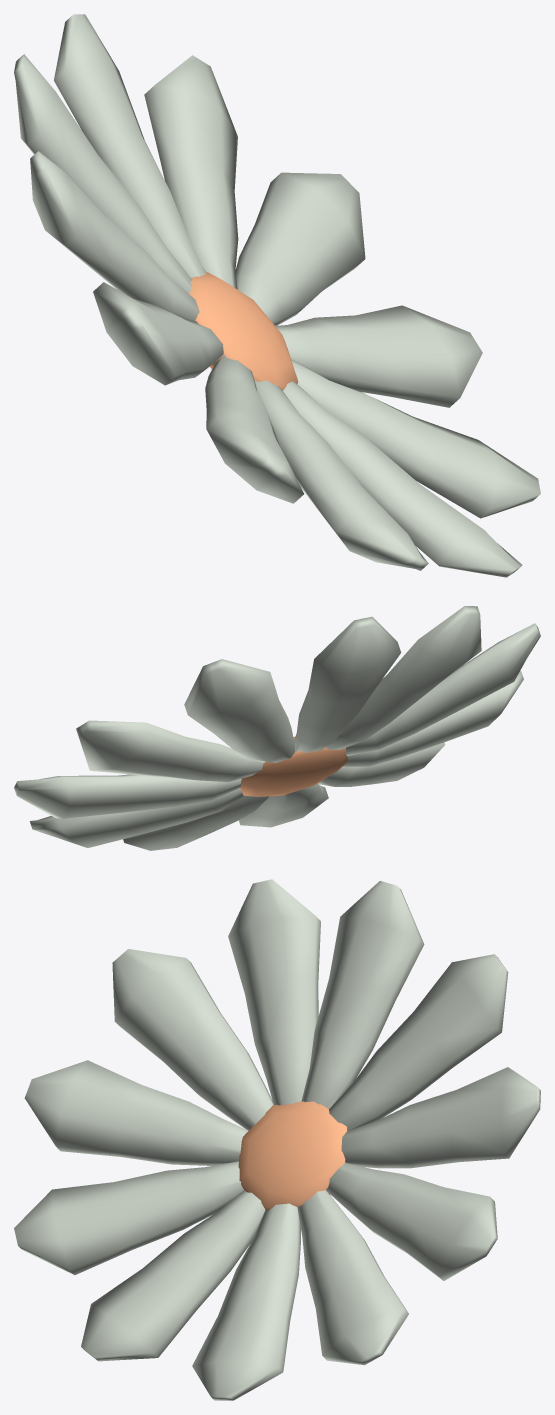
3 views of the same model, one above another, from view 1: azimuth 30°, elevation 25°; view 2: azimuth 150°, elevation 25°; view 3: azimuth 270°, elevation 25° (orthographic). The views are drawn at different scales.
Visible parts, largest first — view 1: 平面.004, 平面.003, 平面.002, 平面.005, 平面.001, 平面.006, 平面.007, 平面.010, 平面, 平面.008, 平面.009, 球体; view 2: 平面, 平面.002, 平面.001, 平面.010, 平面.003, 平面.009, 平面.004, 平面.008, 球体, 平面.005, 平面.007, 平面.006; view 3: 平面.008, 平面.009, 平面.007, 平面, 平面.010, 平面.006, 平面.001, 平面.005, 平面.002, 平面.004, 平面.003, 球体.
Boxes of the visible parts, x1,y1,x2,y2 form: 平面.004: (275, 305, 482, 407); 平面.003: (235, 172, 365, 325); 平面.002: (144, 55, 238, 289); 平面.005: (291, 359, 540, 518); 平面.001: (54, 14, 205, 277); 平面.006: (283, 381, 522, 577); 平面.007: (254, 380, 428, 570); 平面.010: (30, 151, 199, 320); 平面: (14, 54, 192, 293); 平面.008: (205, 355, 303, 503); 平面.009: (93, 282, 223, 385); 球体: (189, 272, 298, 390); 平面: (294, 616, 401, 752); 平面.002: (76, 720, 263, 781); 平面.001: (184, 659, 295, 762); 平面.010: (326, 606, 481, 749); 平面.003: (14, 774, 241, 818); 平面.009: (346, 623, 540, 755); 平面.004: (29, 788, 244, 847); 平面.008: (342, 671, 523, 767); 球体: (239, 736, 347, 796); 平面.005: (123, 796, 268, 850); 平面.007: (318, 742, 445, 786); 平面.006: (239, 783, 328, 827); 平面.008: (24, 1060, 248, 1165); 平面.009: (112, 949, 273, 1130); 平面.007: (14, 1161, 243, 1274); 平面: (301, 881, 424, 1109); 平面.010: (228, 879, 320, 1105); 平面.006: (81, 1190, 265, 1361); 平面.001: (329, 954, 508, 1130); 平面.005: (192, 1203, 300, 1400); 平面.002: (341, 1067, 540, 1168); 平面.004: (297, 1190, 408, 1365); 平面.003: (326, 1163, 497, 1280); 球体: (238, 1101, 347, 1210).
Bounding box in the file's own units: 3.22 × 2.76 × 3.63.
